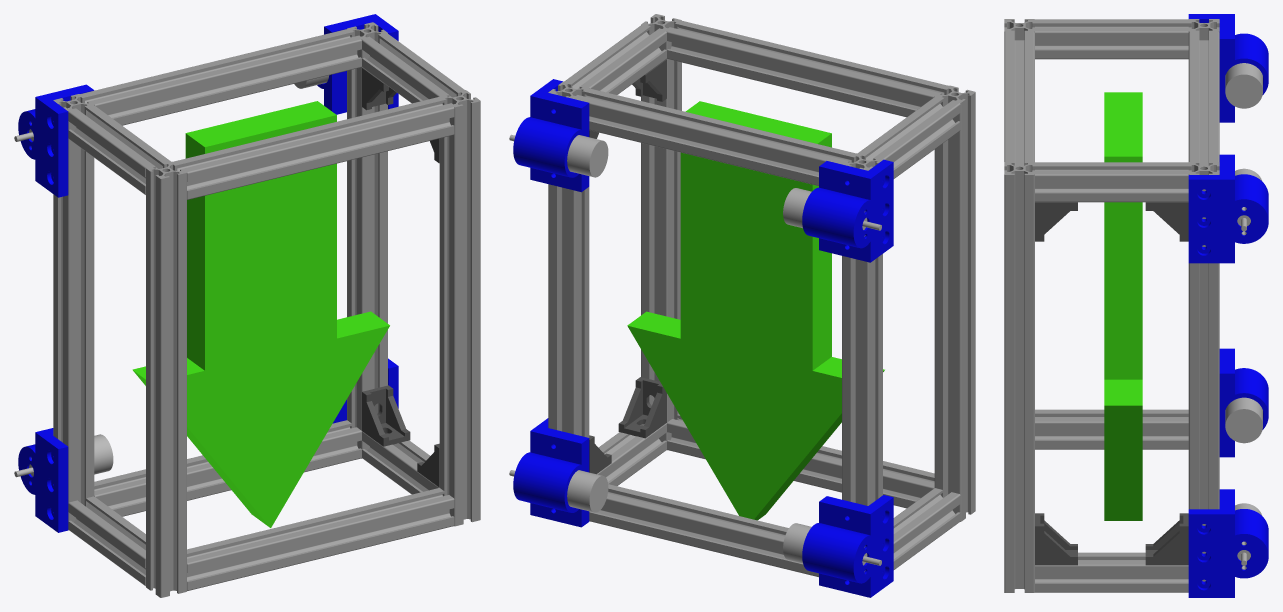
File: Chassis.obj
The picture shows the model from 3 angles, left to right: view 1: azimuth 30°, elevation 25°; view 2: azimuth 150°, elevation 25°; view 3: azimuth 270°, elevation 25°; orthographic projection.
Visible parts, largest first — view 1: mesh147, mesh238, mesh248, mesh317, mesh269, mesh243, mesh173, mesh266, mesh308, mesh321, mesh322, mesh249 (+46 smaller); view 2: mesh148, mesh166, mesh226, mesh260, mesh273, mesh307, mesh173, mesh221, mesh308, mesh266, mesh167, mesh170 (+45 smaller); view 3: mesh173, mesh150, mesh237, mesh227, mesh232, mesh146, mesh7, mesh55, mesh107, mesh166, mesh165, mesh266 (+36 smaller).
Boxes of the visible parts, x1,y1,x2,y2 form: mesh147: (187,115,389,527); mesh238: (69,38,479,597); mesh248: (86,50,463,593); mesh317: (96,41,454,573); mesh269: (113,58,454,590); mesh243: (73,32,466,591); mesh173: (18,97,58,532); mesh266: (90,36,452,562); mesh308: (81,29,443,553); mesh321: (104,50,449,576); mesh322: (108,55,450,580); mesh249: (356,49,453,516); mesh148: (627,152,841,519); mesh166: (513,117,869,582); mesh226: (549,30,959,513); mesh260: (565,42,942,501); mesh273: (589,50,915,576); mesh307: (589,33,932,550); mesh173: (853,162,893,597); mesh221: (562,24,955,503); mesh308: (576,28,938,540); mesh266: (585,21,947,531); mesh167: (530,96,870,597); mesh170: (530,166,870,535); mesh173: (1188,179,1268,597); mesh150: (1104,156,1142,379); mesh237: (1005,175,1199,592); mesh227: (1024,175,1217,592); mesh232: (1015,171,1208,588); mesh146: (1104,405,1142,520); mesh7: (1035,50,1188,591); mesh55: (1035,33,1188,574); mesh107: (1035,202,1188,565); mesh166: (1235,33,1268,552); mesh165: (1219,39,1268,457); mesh266: (1005,32,1199,161).
Size of the model in its own units: 0.277 by 0.3043 by 0.172.
